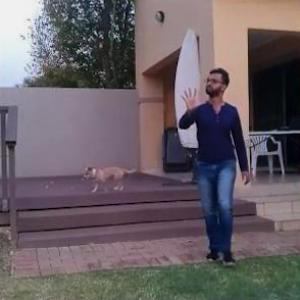follow_hand: (176, 80, 203, 114)
